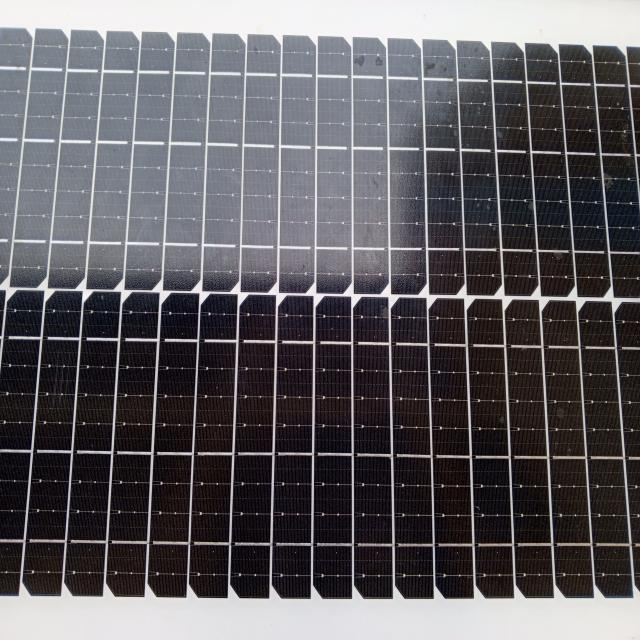Clean: (1, 16, 640, 614)
